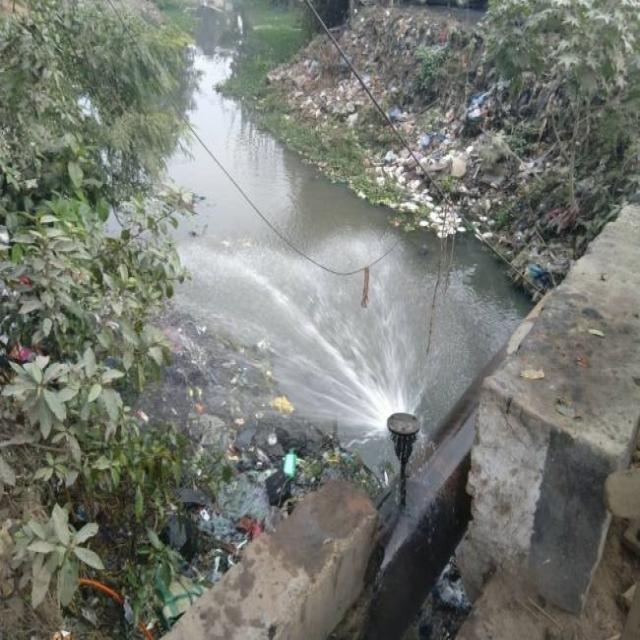leak: (157, 224, 492, 438)
